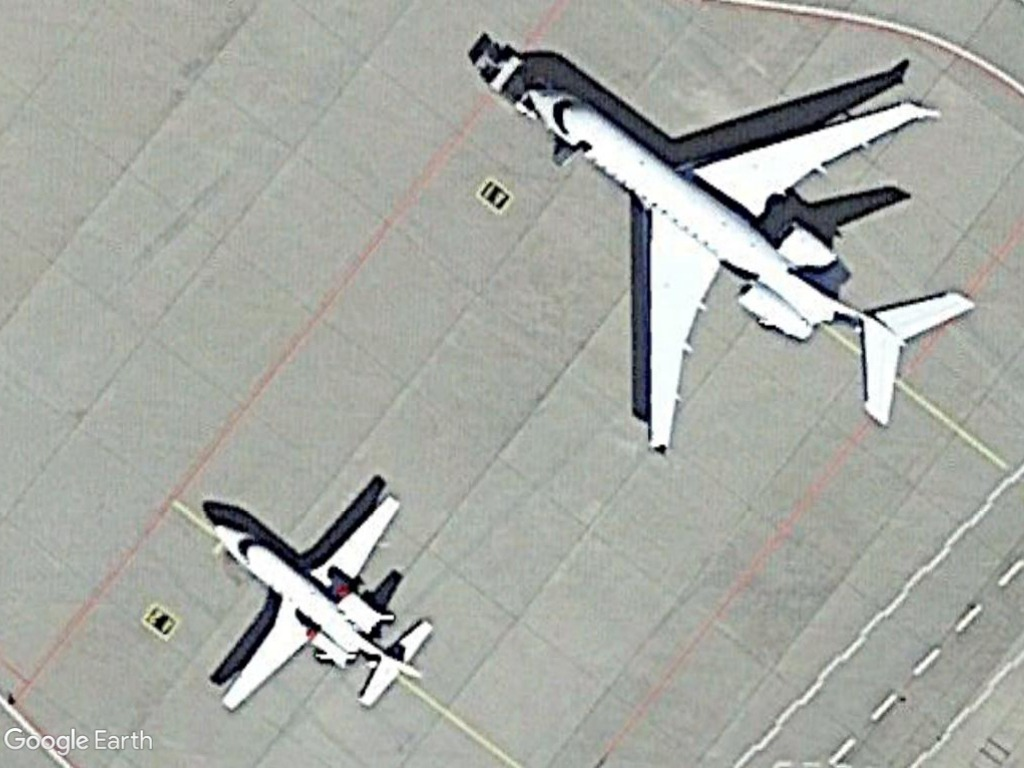chartered: (526, 72, 982, 463), (199, 489, 437, 714)
